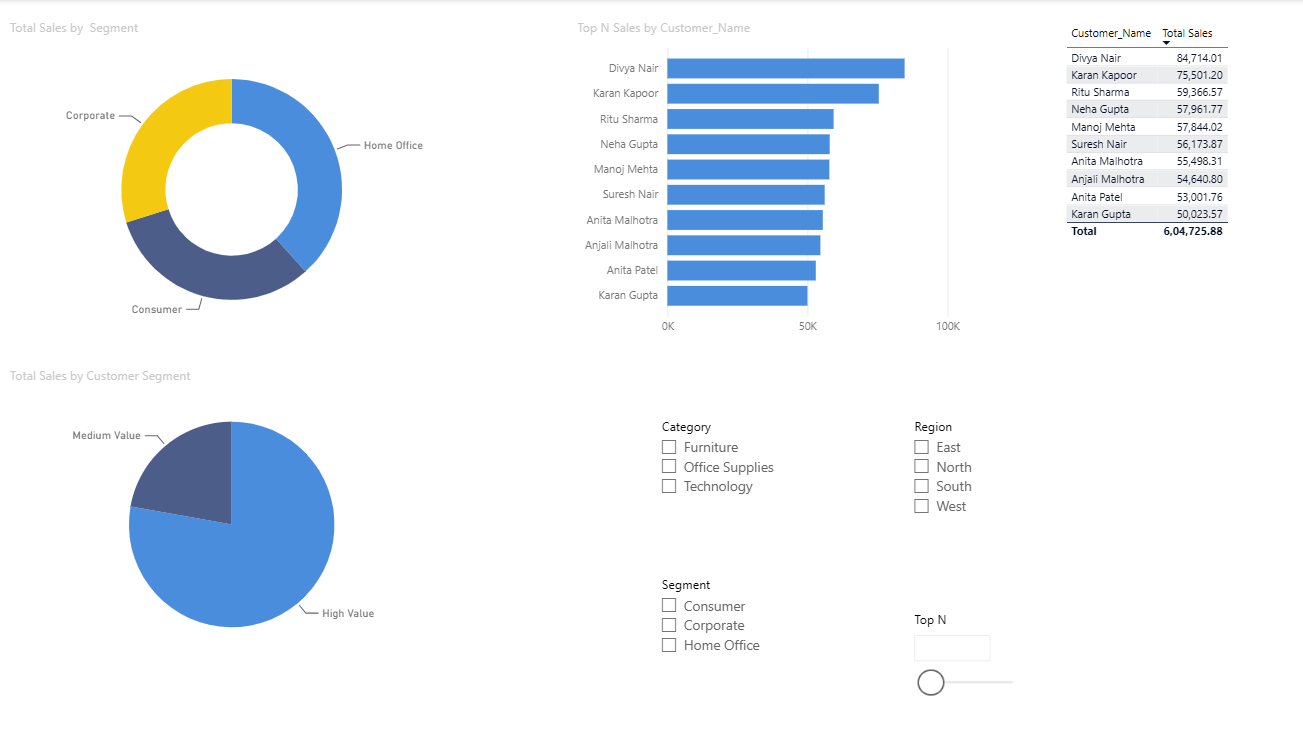

The dashboard page shown, as its layout file describes it:
{"tool":"powerbi","page":{"name":"Customer Analysis","canvas":[1280,720],"ordinal":1},"visuals":[{"type":"tableEx","fields":{"Values":["Customers.Customer_Name","Orders.Total Sales"]},"box":[1041.9,19.6,212.8,304.5],"z":0},{"type":"donutChart","fields":{"Category":["Customers.Segment"],"Y":["Orders.Total Sales"]},"box":[9.8,19.6,443.9,317.9],"z":1000},{"type":"pieChart","fields":{"Category":["Customers.Customer Segment"],"Y":["Orders.Total Sales"]},"box":[9.8,359.5,443.9,293.5],"z":2000},{"type":"slicer","fields":{"Values":["Products.Category"]},"box":[639.5,404.8,155.3,133.3],"z":3000},{"type":"slicer","fields":{"Values":["Customers.Segment"]},"box":[639.5,560.1,155.3,129.6],"z":4000},{"type":"slicer","fields":{"Values":["Customers.Region"]},"box":[886.6,404.8,108.8,154.1],"z":5000},{"type":"clusteredBarChart","fields":{"Category":["Customers.Customer_Name"],"Y":["Customers.Top N Sales"]},"box":[564.9,19.6,384,317.9],"z":6000},{"type":"slicer","fields":{"Values":["Top N.Top N"]},"box":[886.6,594.3,132.1,86.8],"z":7000}]}

Visuals, with their boxes in screenshot pixels (x1, y1, x2, y2), scaled from the page's 1280x720 canvas onto the 1303x732 screenshot:
tableEx - Customers.Customer_Name x Orders.Total Sales: region(1061, 20, 1277, 330)
donutChart - Customers.Segment x Orders.Total Sales: region(10, 20, 462, 343)
pieChart - Customers.Customer Segment x Orders.Total Sales: region(10, 365, 462, 664)
slicer - Products.Category: region(651, 412, 809, 547)
slicer - Customers.Segment: region(651, 569, 809, 701)
slicer - Customers.Region: region(903, 412, 1013, 568)
clusteredBarChart - Customers.Customer_Name x Customers.Top N Sales: region(575, 20, 966, 343)
slicer - Top N.Top N: region(903, 604, 1037, 692)
